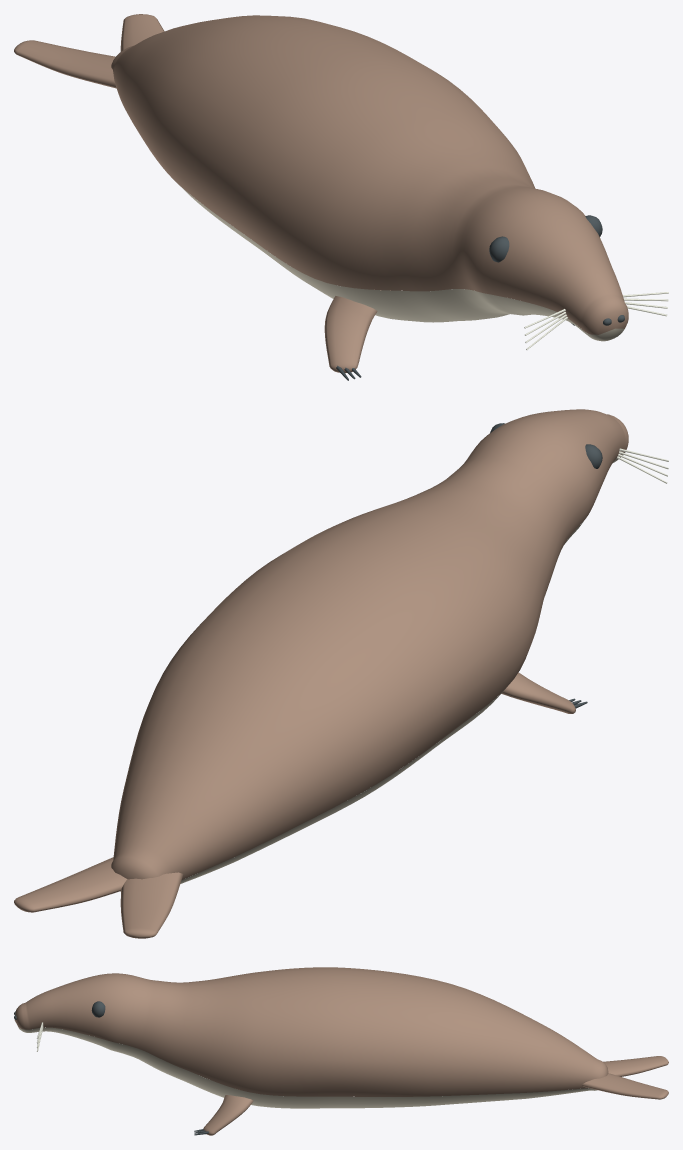
Rendered from underwater_coral.glb.
The picture shows the model from 3 angles, top to bottom: view 1: azimuth 30°, elevation 25°; view 2: azimuth 150°, elevation 25°; view 3: azimuth 270°, elevation 25°; orthographic projection. The views are drawn at different scales.
Parts seen in each view (by area): view 1: grey-seal; view 2: grey-seal; view 3: grey-seal.
Part boxes in pixels (bbox=[...]): grey-seal: bbox=[14, 14, 668, 380]; grey-seal: bbox=[14, 409, 668, 938]; grey-seal: bbox=[14, 967, 668, 1135].
Size of the model in its own units: 0.6047 by 0.4814 by 2.3.
